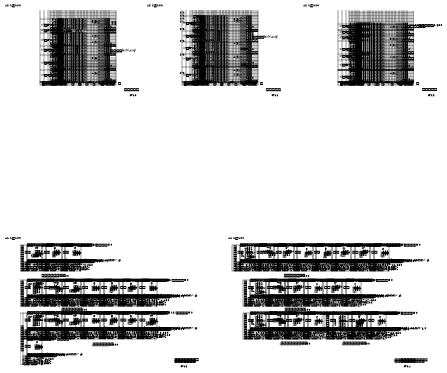door: (370, 64, 370, 66)
room: (283, 27, 301, 55), (376, 27, 394, 55), (30, 99, 48, 126), (30, 62, 48, 89), (95, 62, 113, 89), (293, 99, 311, 126), (283, 62, 301, 89), (30, 28, 48, 55), (95, 28, 113, 55), (348, 62, 366, 89), (358, 99, 376, 126), (9, 0, 26, 28), (262, 27, 279, 55), (305, 27, 322, 55), (327, 27, 344, 55), (355, 27, 372, 55), (398, 27, 415, 55), (9, 99, 26, 126), (52, 99, 69, 126), (9, 62, 26, 89), (74, 62, 91, 89), (250, 99, 267, 126), (272, 99, 289, 126), (315, 99, 332, 126), (337, 99, 354, 126), (262, 62, 279, 89), (305, 62, 322, 89), (139, 62, 156, 89), (9, 28, 26, 55), (52, 28, 69, 55), (74, 28, 91, 55), (139, 28, 156, 55), (380, 99, 397, 126), (402, 99, 419, 126), (327, 62, 344, 89), (370, 62, 387, 89), (117, 62, 134, 89), (117, 28, 134, 55), (15, 75, 21, 86), (15, 41, 21, 52), (256, 112, 262, 123), (268, 75, 273, 86), (268, 40, 273, 51), (34, 77, 44, 82), (34, 43, 44, 48), (287, 77, 297, 82), (287, 43, 297, 48), (276, 114, 285, 119), (58, 76, 64, 82), (58, 42, 64, 48), (145, 42, 151, 48), (15, 113, 21, 119), (382, 40, 387, 47), (15, 75, 18, 86), (15, 41, 18, 52), (299, 115, 305, 120), (354, 78, 360, 83), (386, 115, 391, 120), (311, 78, 316, 83), (311, 43, 316, 48), (362, 40, 364, 51), (34, 80, 44, 82), (34, 46, 44, 48), (15, 49, 21, 52), (145, 42, 151, 45), (148, 42, 151, 48), (276, 117, 285, 119), (287, 80, 296, 82), (287, 46, 296, 48), (123, 78, 127, 82), (123, 44, 127, 48), (365, 115, 369, 119), (41, 77, 44, 82), (41, 43, 44, 48), (59, 42, 64, 45), (18, 114, 21, 119), (345, 114, 348, 119), (15, 84, 21, 86), (62, 42, 64, 48), (17, 16, 20, 20), (15, 114, 21, 116), (61, 115, 64, 119), (410, 115, 413, 119), (335, 78, 338, 82), (335, 43, 338, 47), (382, 41, 384, 47), (10, 80, 12, 85), (59, 77, 64, 79), (62, 77, 64, 82), (10, 46, 12, 51), (256, 112, 261, 114), (268, 75, 273, 77), (294, 43, 296, 48), (311, 46, 316, 48), (311, 43, 313, 48), (382, 45, 387, 47), (82, 78, 85, 81), (147, 78, 150, 81), (82, 44, 85, 47), (103, 78, 105, 82), (103, 44, 105, 48), (38, 115, 40, 119), (324, 115, 326, 119), (283, 115, 285, 119), (299, 115, 301, 119), (386, 115, 388, 119), (294, 78, 296, 82), (311, 78, 313, 82), (354, 78, 356, 82), (379, 78, 381, 82), (407, 43, 409, 47), (299, 118, 304, 119), (386, 118, 391, 119), (311, 81, 316, 82), (354, 81, 359, 82), (268, 41, 273, 42)
wall: (0, 0, 4, 55), (4, 0, 9, 28), (257, 27, 262, 55), (322, 27, 327, 55), (350, 27, 355, 55), (4, 99, 9, 126), (4, 62, 9, 89), (241, 99, 246, 126), (267, 99, 272, 126), (332, 99, 337, 126), (257, 62, 262, 89), (134, 62, 139, 89), (4, 28, 9, 55), (69, 28, 74, 55), (134, 28, 139, 55), (397, 99, 402, 126), (322, 62, 327, 89), (253, 27, 257, 55), (279, 27, 283, 55), (301, 27, 305, 55), (346, 27, 350, 55), (372, 27, 376, 55), (394, 27, 398, 55), (0, 99, 4, 126), (26, 99, 30, 126), (48, 99, 52, 126), (0, 62, 4, 89), (26, 62, 30, 89), (48, 62, 52, 89), (91, 62, 95, 89), (246, 99, 250, 126), (289, 99, 293, 126), (311, 99, 315, 126), (253, 62, 257, 89), (279, 62, 283, 89), (301, 62, 305, 89), (26, 28, 30, 55), (48, 28, 52, 55), (91, 28, 95, 55), (376, 99, 380, 126), (344, 62, 348, 89), (366, 62, 370, 89), (113, 62, 117, 89), (113, 28, 117, 55), (354, 99, 358, 126), (256, 112, 258, 123), (268, 75, 270, 86), (362, 40, 364, 51), (268, 41, 270, 51), (15, 77, 18, 79), (15, 80, 18, 82), (15, 43, 18, 45), (15, 46, 18, 48), (61, 51, 64, 53), (148, 51, 151, 53), (39, 86, 44, 87), (39, 52, 44, 53), (280, 123, 285, 124), (1, 116, 3, 118), (1, 104, 3, 106), (1, 79, 3, 81), (1, 67, 3, 69), (243, 116, 245, 118), (243, 104, 245, 106), (254, 79, 256, 81), (254, 67, 256, 69), (11, 84, 13, 86), (36, 80, 38, 82), (42, 85, 44, 87), (103, 79, 105, 81), (1, 39, 3, 41), (1, 32, 3, 34), (1, 15, 3, 17), (36, 46, 38, 48), (42, 51, 44, 53), (103, 45, 105, 47), (38, 116, 40, 118), (256, 119, 258, 121), (256, 115, 258, 117), (278, 117, 280, 119), (385, 113, 389, 114), (323, 113, 327, 114), (268, 82, 270, 84), (268, 78, 270, 80), (274, 74, 275, 78), (289, 80, 291, 82), (292, 86, 296, 87), (310, 76, 314, 77), (378, 76, 382, 77), (254, 47, 256, 49), (268, 47, 270, 49), (268, 44, 270, 46), (289, 46, 291, 48), (292, 52, 296, 53), (310, 41, 314, 42), (317, 45, 318, 49), (382, 42, 384, 44), (388, 44, 389, 48), (362, 47, 364, 49), (362, 44, 364, 46), (125, 84, 127, 86), (125, 50, 127, 52), (367, 121, 369, 123), (61, 86, 64, 87), (18, 123, 21, 124), (302, 124, 305, 125), (299, 113, 302, 114), (392, 117, 393, 120), (410, 113, 413, 114), (345, 112, 348, 113), (263, 77, 266, 78), (317, 80, 318, 83), (357, 87, 360, 88), (354, 76, 357, 77), (335, 76, 338, 77), (263, 42, 266, 43), (274, 40, 275, 43), (295, 50, 296, 53), (294, 41, 297, 42), (384, 50, 385, 53), (1, 124, 3, 125), (1, 121, 3, 122), (1, 119, 3, 120), (1, 114, 3, 115), (1, 112, 3, 113), (1, 110, 3, 111), (1, 107, 3, 108), (1, 102, 3, 103), (1, 100, 3, 101), (1, 87, 3, 88), (1, 84, 3, 85), (1, 82, 3, 83), (1, 77, 3, 78), (1, 75, 3, 76), (1, 73, 3, 74), (1, 70, 3, 71), (1, 65, 3, 66), (1, 63, 3, 64), (243, 124, 245, 125), (243, 121, 245, 122), (243, 119, 245, 120), (243, 114, 245, 115), (243, 112, 245, 113), (243, 110, 245, 111), (243, 107, 245, 108), (243, 102, 245, 103), (243, 100, 245, 101), (254, 87, 256, 88), (254, 84, 256, 85), (254, 82, 256, 83), (254, 77, 256, 78), (254, 75, 256, 76), (254, 73, 256, 74), (254, 70, 256, 71), (254, 65, 256, 66), (254, 63, 256, 64), (63, 86, 64, 88), (104, 85, 105, 87), (104, 85, 106, 86), (1, 37, 3, 38), (1, 35, 3, 36), (1, 30, 3, 31), (1, 28, 3, 29), (1, 26, 3, 27), (1, 23, 3, 24), (1, 20, 3, 21), (1, 18, 3, 19), (11, 50, 13, 51), (63, 52, 64, 54), (104, 51, 105, 53), (104, 51, 106, 52), (19, 23, 20, 25), (150, 52, 151, 54), (20, 123, 21, 125), (62, 122, 64, 123), (39, 122, 40, 124), (39, 122, 41, 123), (252, 114, 254, 115), (284, 122, 285, 124), (302, 122, 303, 124), (389, 124, 391, 125), (389, 122, 390, 124), (325, 121, 326, 123), (412, 121, 413, 123), (345, 116, 347, 117), (347, 121, 348, 123), (295, 85, 296, 87), (314, 87, 316, 88), (314, 85, 315, 87), (357, 85, 358, 87), (337, 84, 338, 86), (380, 84, 381, 86), (254, 52, 256, 53), (254, 50, 256, 51), (254, 45, 256, 46), (254, 43, 256, 44), (254, 41, 256, 42), (254, 38, 256, 39), (254, 36, 256, 37), (254, 33, 256, 34), (254, 30, 256, 31), (254, 28, 256, 29), (314, 52, 316, 53), (314, 51, 315, 53), (348, 47, 349, 49), (385, 52, 387, 53), (10, 81, 11, 82), (10, 83, 11, 84), (40, 86, 41, 87), (84, 85, 85, 86), (149, 85, 150, 86), (10, 47, 11, 48), (10, 48, 11, 49), (40, 52, 41, 53), (84, 51, 85, 52), (251, 118, 252, 119), (251, 116, 252, 117), (281, 123, 282, 124), (347, 122, 348, 123), (263, 81, 264, 82), (263, 79, 264, 80), (293, 86, 294, 87), (263, 46, 264, 47), (263, 44, 264, 45), (337, 50, 338, 51), (348, 52, 349, 53), (348, 50, 349, 51), (348, 45, 349, 46), (348, 43, 349, 44), (348, 41, 349, 42), (348, 38, 349, 39), (348, 36, 349, 37), (348, 33, 349, 34), (348, 30, 349, 31), (348, 28, 349, 29), (408, 50, 409, 51), (384, 50, 385, 51), (358, 45, 359, 46), (358, 43, 359, 44), (263, 111, 263, 115), (282, 113, 285, 113), (306, 117, 306, 120), (294, 76, 297, 76), (361, 80, 361, 83), (293, 52, 294, 52), (335, 42, 338, 42), (406, 42, 410, 42)
